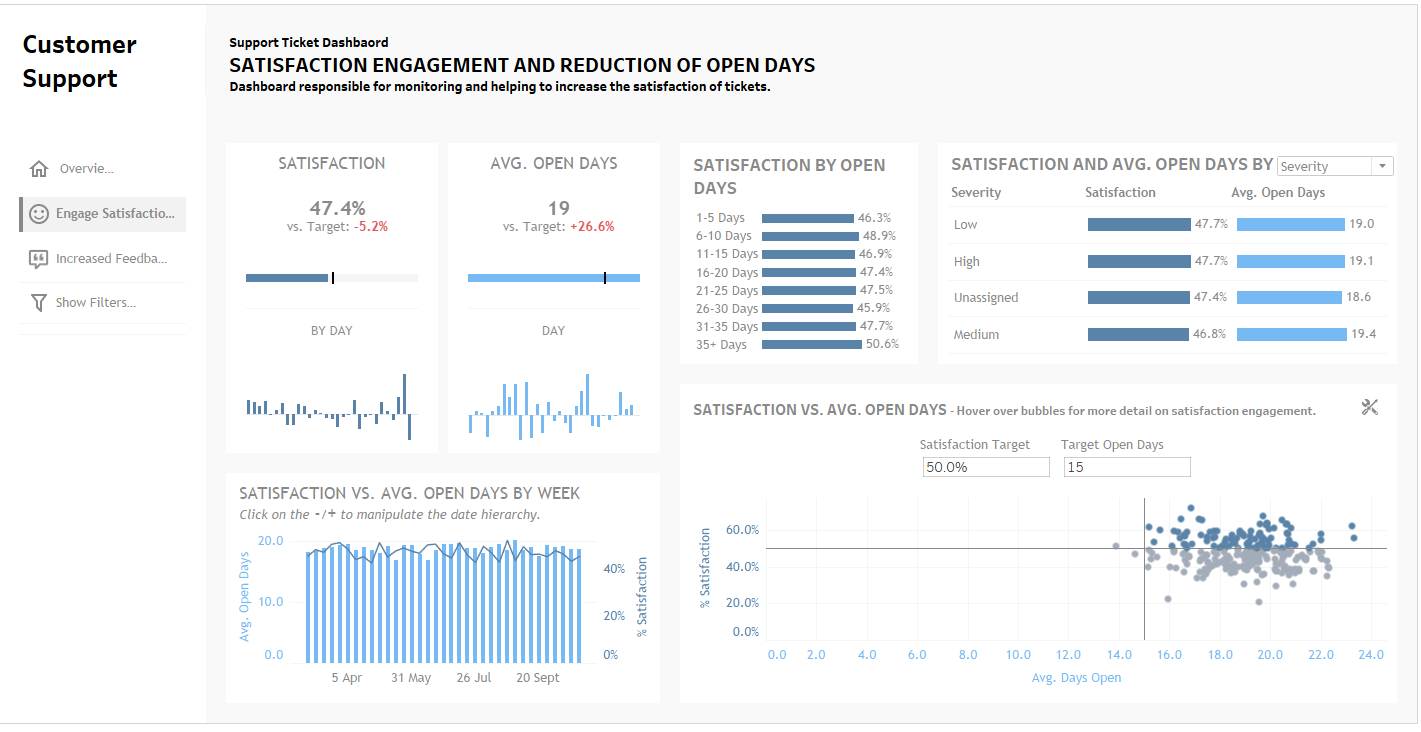

What the dashboard file says about the page in this screenshot:
{"tool":"tableau","page":{"name":"Engage Satisfaction - Light","canvas":[1420,720],"ordinal":0},"visuals":[{"type":"text","box":[1,1,206,110]},{"type":"blank","box":[207,1,1,110]},{"type":"text","box":[208,1,1211,118]},{"type":"text","box":[970,87,265,60]},{"type":"blank","box":[1,111,207,32]},{"type":"blank","box":[221,129,450,125]},{"type":"text","box":[228,139,212,30]},{"type":"text","box":[450,139,212,30]},{"type":"text","box":[682,139,238,56]},{"type":"text","box":[940,139,336,36]},{"type":"parameter","param":"[Parameters].[Parâmetro 5]","box":[1276,139,123,36]},{"type":"blank","box":[970,147,265,7]},{"type":"blank","box":[21,148,4,35]},{"type":"image","param":"Image/Home.png","box":[25,148,30,35]},{"type":"dashboard-object","box":[55,148,75,35]},{"type":"blank","box":[130,148,58,35]},{"type":"text","box":[970,154,265,310]},{"type":"worksheet","title":"Engage Satisfaction Light - Satisfaction Engage","mark":"Square","box":[228,169,212,75]},{"type":"worksheet","title":"Engage Satisfaction Light -  Avg. Days Open","mark":"Square","box":[450,169,212,75]},{"type":"text","box":[950,175,134,27]},{"type":"text","box":[1084,175,146,27]},{"type":"text","box":[1230,175,159,27]},{"type":"blank","box":[21,193,4,35]},{"type":"image","param":"Image/Engage.png","box":[25,193,30,35]},{"type":"dashboard-object","box":[55,193,126,35]},{"type":"blank","box":[181,193,7,35]},{"type":"worksheet","title":"Engage Satisfaction Light - Tickets by Open Days","mark":"Bar","rows":["Calculation_390968786374774788"],"cols":["Calculation_719731557468495874"],"box":[682,195,238,165]},{"type":"worksheet","title":"Engage Satisfaction Light - Tickets by Satisfication Score","mark":"Automatic","rows":["Calculation_925771243168632832"],"cols":["Calculation_719731557468495874","days_open"],"box":[940,202,459,158]},{"type":"blank","box":[21,238,4,35]},{"type":"image","param":"Image/Feedback.png","box":[25,238,30,35]},{"type":"dashboard-object","box":[55,238,123,35]},{"type":"blank","box":[178,238,10,35]},{"type":"worksheet","title":"Engage Satisfaction Light - Satisfaction vs. Target","mark":"Bar","box":[228,244,212,60]},{"type":"worksheet","title":"Engage Satisfaction Light - Avg. Open Days vs. Target Bar","mark":"Bar","box":[450,244,212,60]},{"type":"blank","box":[1,278,207,1]},{"type":"blank","box":[21,284,4,30]},{"type":"image","param":"Image/Filter Menu.png","box":[25,284,30,30]},{"type":"dashboard-object","box":[55,284,88,30]},{"type":"blank","box":[143,284,45,30]},{"type":"blank","box":[215,302,473,57]},{"type":"blank","box":[228,304,212,1]},{"type":"blank","box":[450,304,212,1]},{"type":"worksheet","title":"Engage Satisfaction Light - Satisfaction MoM","mark":"Square","box":[228,305,212,52]},{"type":"worksheet","title":"Engage Satisfaction Light - Open Days MoM","mark":"Square","box":[450,305,212,52]},{"type":"blank","box":[1,319,207,6]},{"type":"parameter","param":"[Parameters].[Parâmetro 4]","box":[21,319,84,45]},{"type":"filter","title":"Engage Satisfaction Light -  Avg. Days Open","param":"[federated.0cysz861ktjxcq1fd9xv01acxm97].[none:Calculation_390968786373120002:ok","box":[105,319,83,45]},{"type":"blank","box":[1,325,207,11]},{"type":"blank","box":[1,336,207,383]},{"type":"worksheet","title":"Engage Satisfaction Light - Satisfaction MoM by Day","mark":"Bar","rows":["Calculation_526076775539757082"],"cols":["created_date"],"box":[228,357,212,92]},{"type":"worksheet","title":"Engage Satisfaction Light - Open Days MoM by Day","mark":"Bar","rows":["% Satisfied Month Var (cópia)_526076775546671138"],"cols":["created_date"],"box":[450,357,212,92]},{"type":"filter","title":"Engage Satisfaction Light -  Avg. Days Open","param":"[federated.0cysz861ktjxcq1fd9xv01acxm97].[none:severity:nk]","box":[21,364,167,45]},{"type":"text","box":[682,380,672,45]},{"type":"dashboard-object","box":[1354,380,45,45]},{"type":"filter","title":"Engage Satisfaction Light - Satisfaction Engage","param":"[federated.0cysz861ktjxcq1fd9xv01acxm97].[ticket status (grupo)]","box":[21,409,167,45]},{"type":"blank","box":[686,429,232,51]},{"type":"parameter","param":"[Parameters].[Parâmetro 3]","box":[918,429,141.5,51]},{"type":"parameter","param":"[Parameters].[Target Satisfaction (cópia)_526076775526744074]","box":[1059.5,429,141.5,51]},{"type":"blank","box":[1201,429,194,51]},{"type":"text","box":[228,469,434,50]},{"type":"worksheet","title":"Engage Satisfaction Light - Satisfaction vs, Avg Days Open","mark":"Circle","rows":["Calculation_719731557468495874"],"cols":["days_open"],"box":[682,484,717,215]},{"type":"worksheet","title":"Engage Satisfaction Light - Satisfaction vs. Open Day by Week","mark":"Automatic","rows":["days_open","Calculation_719731557468495874"],"cols":["created_date"],"box":[228,519,434,180]}]}

Visuals, with their boxes on the page's 1420x720 design canvas (x1, y1, x2, y2). These are canvas units, not pixel positions in the 1421x732 screenshot, which may show the page scaled, cropped or inside an application window:
text: (1, 1, 207, 111)
blank: (207, 1, 208, 111)
text: (208, 1, 1419, 119)
text: (970, 87, 1235, 147)
blank: (1, 111, 208, 143)
blank: (221, 129, 671, 254)
text: (228, 139, 440, 169)
text: (450, 139, 662, 169)
text: (682, 139, 920, 195)
text: (940, 139, 1276, 175)
parameter: (1276, 139, 1399, 175)
blank: (970, 147, 1235, 154)
blank: (21, 148, 25, 183)
image: (25, 148, 55, 183)
dashboard-object: (55, 148, 130, 183)
blank: (130, 148, 188, 183)
text: (970, 154, 1235, 464)
"Engage Satisfaction Light - Satisfaction Engage" worksheet (Square marks): (228, 169, 440, 244)
"Engage Satisfaction Light -  Avg. Days Open" worksheet (Square marks): (450, 169, 662, 244)
text: (950, 175, 1084, 202)
text: (1084, 175, 1230, 202)
text: (1230, 175, 1389, 202)
blank: (21, 193, 25, 228)
image: (25, 193, 55, 228)
dashboard-object: (55, 193, 181, 228)
blank: (181, 193, 188, 228)
"Engage Satisfaction Light - Tickets by Open Days" worksheet (Bar marks): (682, 195, 920, 360)
"Engage Satisfaction Light - Tickets by Satisfication Score" worksheet: (940, 202, 1399, 360)
blank: (21, 238, 25, 273)
image: (25, 238, 55, 273)
dashboard-object: (55, 238, 178, 273)
blank: (178, 238, 188, 273)
"Engage Satisfaction Light - Satisfaction vs. Target" worksheet (Bar marks): (228, 244, 440, 304)
"Engage Satisfaction Light - Avg. Open Days vs. Target Bar" worksheet (Bar marks): (450, 244, 662, 304)
blank: (1, 278, 208, 279)
blank: (21, 284, 25, 314)
image: (25, 284, 55, 314)
dashboard-object: (55, 284, 143, 314)
blank: (143, 284, 188, 314)
blank: (215, 302, 688, 359)
blank: (228, 304, 440, 305)
blank: (450, 304, 662, 305)
"Engage Satisfaction Light - Satisfaction MoM" worksheet (Square marks): (228, 305, 440, 357)
"Engage Satisfaction Light - Open Days MoM" worksheet (Square marks): (450, 305, 662, 357)
blank: (1, 319, 208, 325)
parameter: (21, 319, 105, 364)
"Engage Satisfaction Light -  Avg. Days Open" filter: (105, 319, 188, 364)
blank: (1, 325, 208, 336)
blank: (1, 336, 208, 719)
"Engage Satisfaction Light - Satisfaction MoM by Day" worksheet (Bar marks): (228, 357, 440, 449)
"Engage Satisfaction Light - Open Days MoM by Day" worksheet (Bar marks): (450, 357, 662, 449)
"Engage Satisfaction Light -  Avg. Days Open" filter: (21, 364, 188, 409)
text: (682, 380, 1354, 425)
dashboard-object: (1354, 380, 1399, 425)
"Engage Satisfaction Light - Satisfaction Engage" filter: (21, 409, 188, 454)
blank: (686, 429, 918, 480)
parameter: (918, 429, 1060, 480)
parameter: (1060, 429, 1201, 480)
blank: (1201, 429, 1395, 480)
text: (228, 469, 662, 519)
"Engage Satisfaction Light - Satisfaction vs, Avg Days Open" worksheet (Circle marks): (682, 484, 1399, 699)
"Engage Satisfaction Light - Satisfaction vs. Open Day by Week" worksheet: (228, 519, 662, 699)
